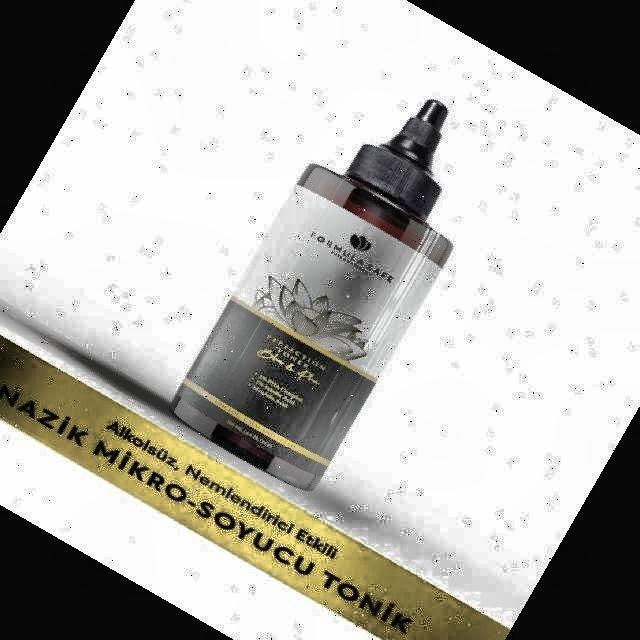plastic: (172, 100, 451, 489)
